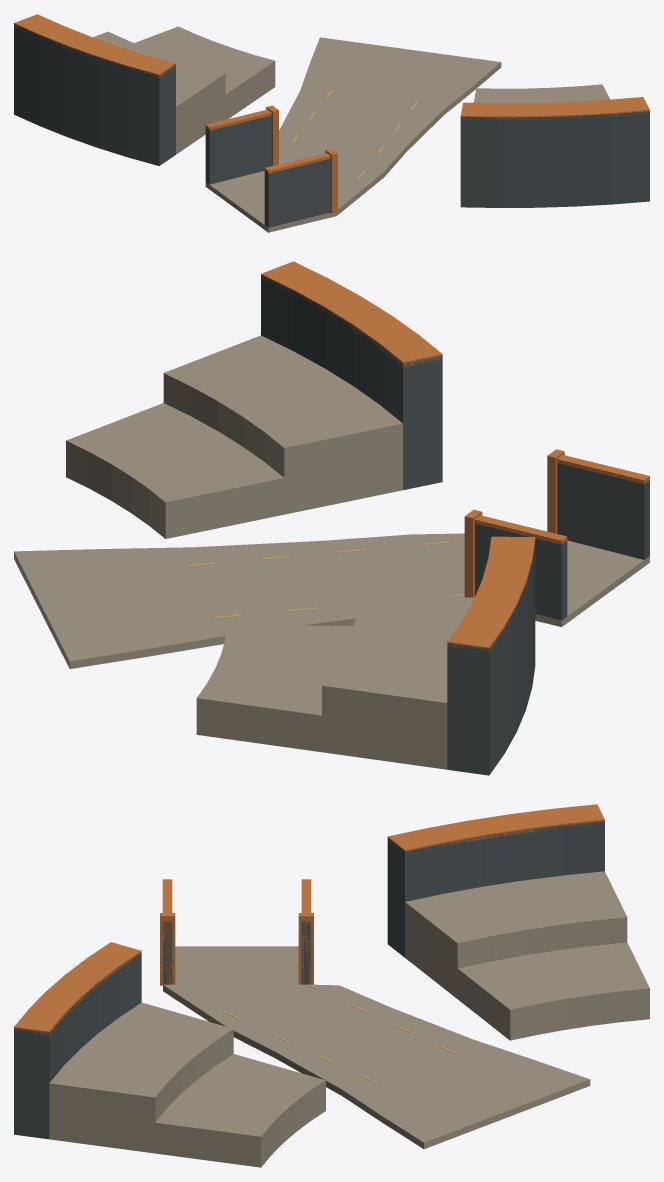
The model's file is e11c-g2-c3-threshold.glb.
The picture shows the model from 3 angles, top to bottom: view 1: azimuth 30°, elevation 25°; view 2: azimuth 150°, elevation 25°; view 3: azimuth 270°, elevation 25°; orthographic projection. The views are drawn at different scales.
Parts seen in each view (by area): view 1: 03 Entry terrace sections, 01 G2 level paving, 02 Entry parapets; view 2: 03 Entry terrace sections, 01 G2 level paving, 02 Entry parapets; view 3: 03 Entry terrace sections, 01 G2 level paving, 02 Entry parapets.
Boxes of the visible parts, x1=… form: 03 Entry terrace sections: x1=14, y1=14, x2=649, y2=207; 01 G2 level paving: x1=205, y1=37, x2=501, y2=232; 02 Entry parapets: x1=205, y1=105, x2=337, y2=227; 03 Entry terrace sections: x1=66, y1=261, x2=535, y2=775; 01 G2 level paving: x1=14, y1=533, x2=649, y2=668; 02 Entry parapets: x1=464, y1=449, x2=649, y2=620; 03 Entry terrace sections: x1=14, y1=804, x2=649, y2=1167; 01 G2 level paving: x1=163, y1=946, x2=590, y2=1148; 02 Entry parapets: x1=160, y1=879, x2=313, y2=985.
Bounding box in the file's own units: 32.68 × 6.42 × 34.36.
